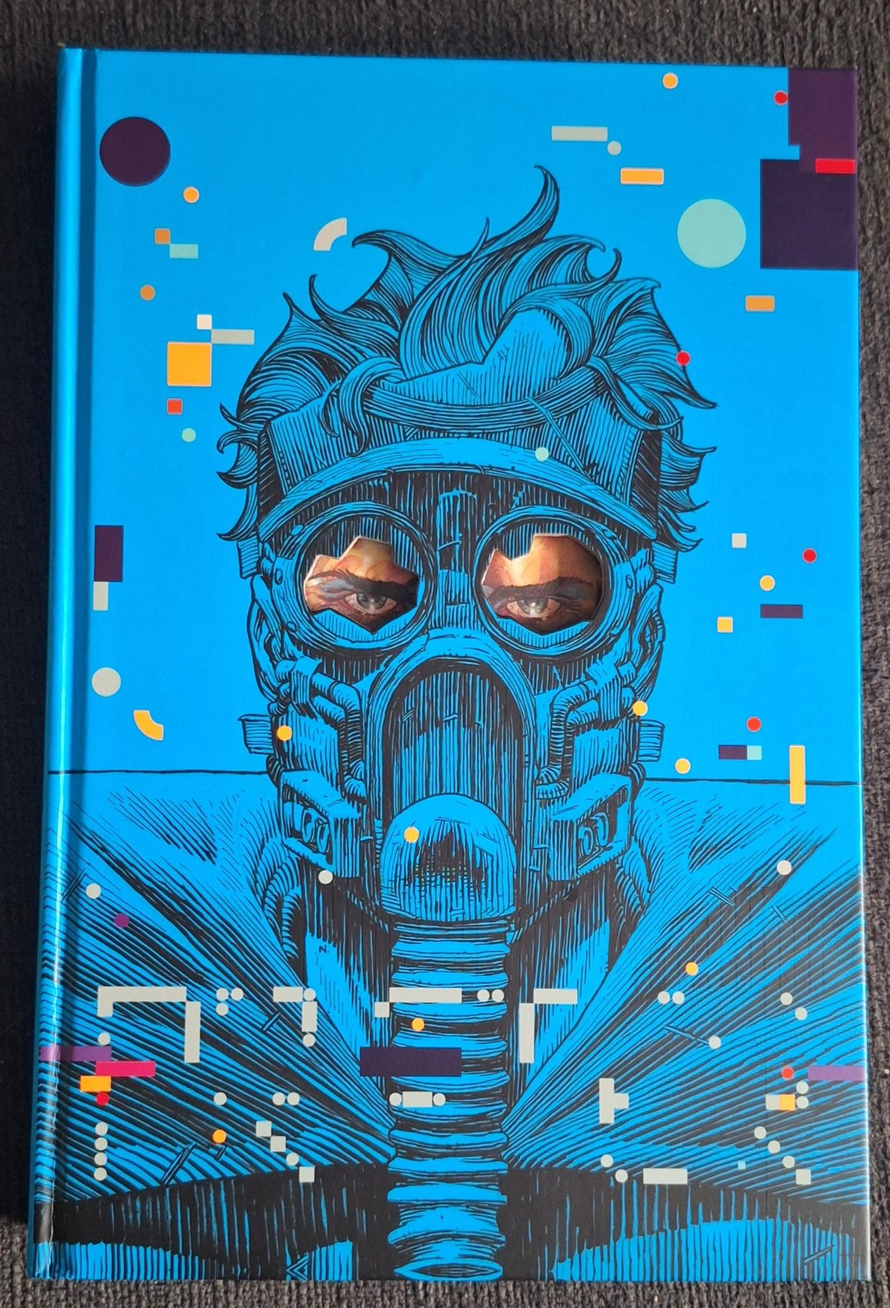comic: (31, 51, 887, 1290)
